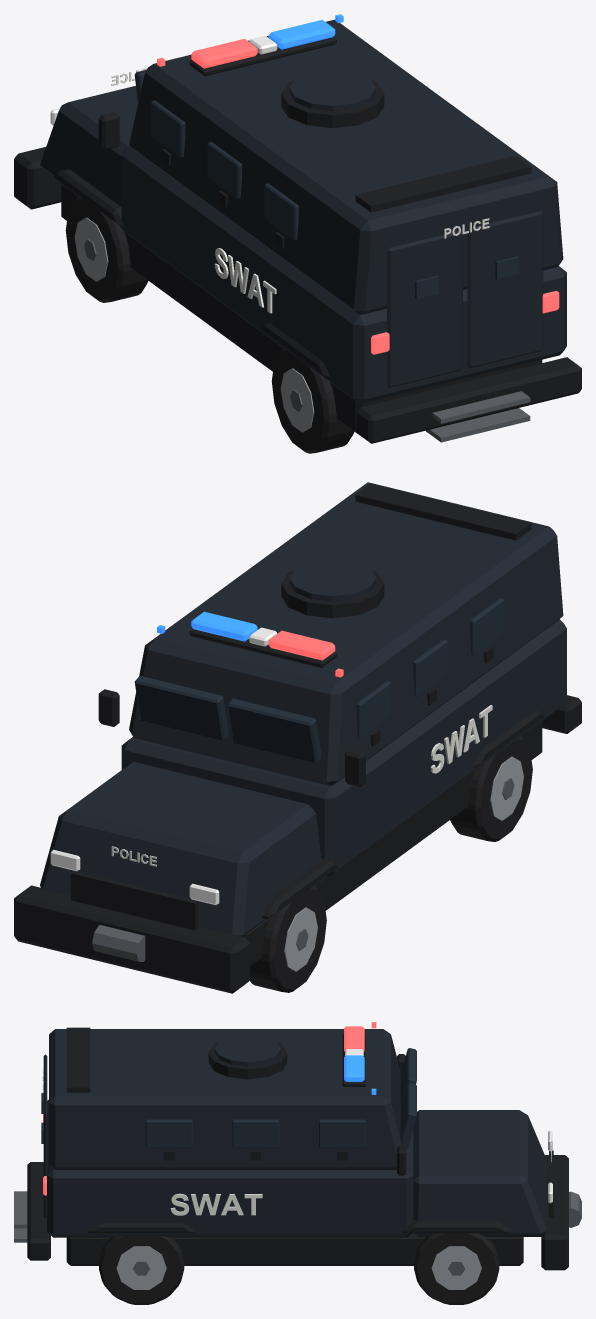
File: PD_SWAT_ArmoredTruck.fbx
3 renders of one model, top to bottom at view 1: azimuth 30°, elevation 25°; view 2: azimuth 150°, elevation 25°; view 3: azimuth 270°, elevation 25°, orthographic. The views are drawn at different scales.
Parts seen in each view (by area): view 1: PD_SWAT_ArmoredTruck_Body, PD_SWAT_ArmoredTruck_Wheel_FL, PD_SWAT_ArmoredTruck_Wheel_RL; view 2: PD_SWAT_ArmoredTruck_Body, PD_SWAT_ArmoredTruck_Wheel_FL, PD_SWAT_ArmoredTruck_Wheel_RL; view 3: PD_SWAT_ArmoredTruck_Body, PD_SWAT_ArmoredTruck_Wheel_FR, PD_SWAT_ArmoredTruck_Wheel_RR.
Boxes of the visible parts, x1=… form: PD_SWAT_ArmoredTruck_Body: x1=14, y1=14, x2=581, y2=443; PD_SWAT_ArmoredTruck_Wheel_FL: x1=65, y1=196, x2=148, y2=302; PD_SWAT_ArmoredTruck_Wheel_RL: x1=271, y1=348, x2=354, y2=453; PD_SWAT_ArmoredTruck_Body: x1=14, y1=482, x2=581, y2=993; PD_SWAT_ArmoredTruck_Wheel_FL: x1=250, y1=886, x2=326, y2=992; PD_SWAT_ArmoredTruck_Wheel_RL: x1=450, y1=736, x2=532, y2=841; PD_SWAT_ArmoredTruck_Body: x1=14, y1=1022, x2=581, y2=1270; PD_SWAT_ArmoredTruck_Wheel_FR: x1=414, y1=1233, x2=499, y2=1304; PD_SWAT_ArmoredTruck_Wheel_RR: x1=99, y1=1236, x2=184, y2=1304.
Bounding box in the file's own units: 2.96 × 3.07 × 7.21.
